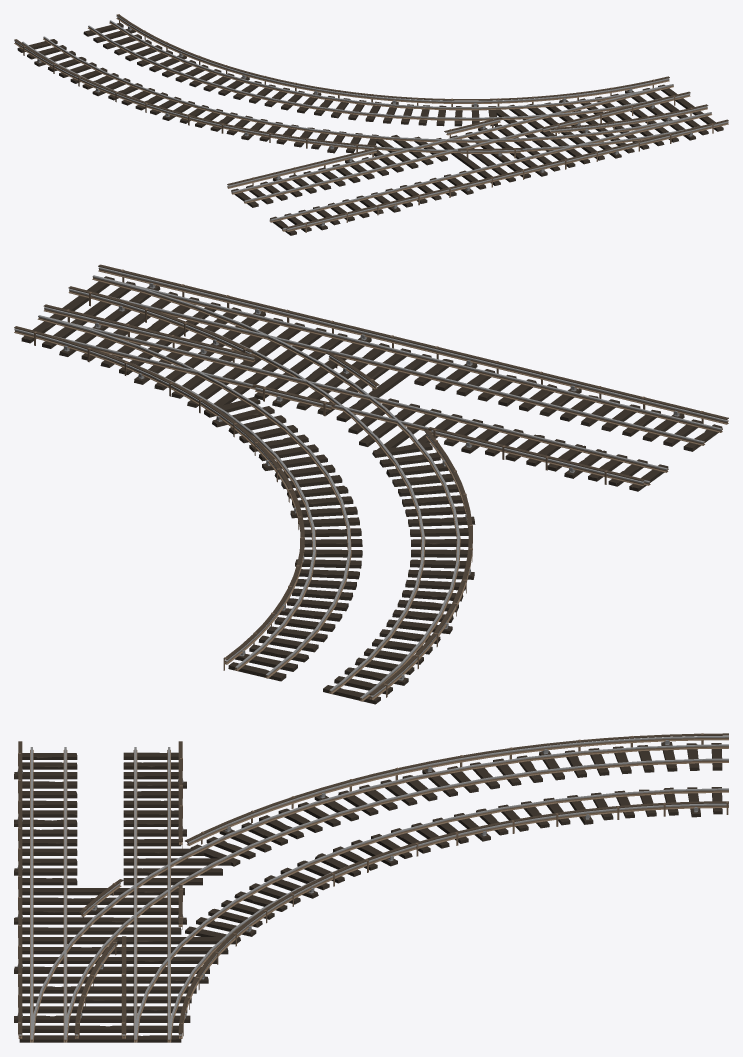
File: SW_ENV_TrackJunction_EL_01.fbx
The picture shows the model from 3 angles, top to bottom: view 1: azimuth 30°, elevation 25°; view 2: azimuth 150°, elevation 25°; view 3: azimuth 270°, elevation 25°; orthographic projection. The views are drawn at different scales.
Visible parts, largest first — view 1: SW_ENV_TrackJunction_EL_01; view 2: SW_ENV_TrackJunction_EL_01; view 3: SW_ENV_TrackJunction_EL_01.
Part boxes in pixels (bbox=[...]): SW_ENV_TrackJunction_EL_01: bbox=[14, 14, 728, 235]; SW_ENV_TrackJunction_EL_01: bbox=[14, 264, 728, 704]; SW_ENV_TrackJunction_EL_01: bbox=[14, 733, 728, 1042].
Size of the model in its own units: 3086 by 58.87 by 3100.
